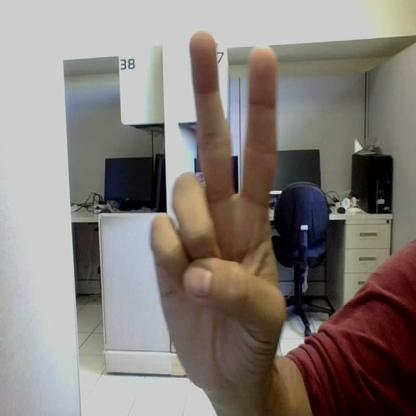V: (151, 32, 285, 362)
